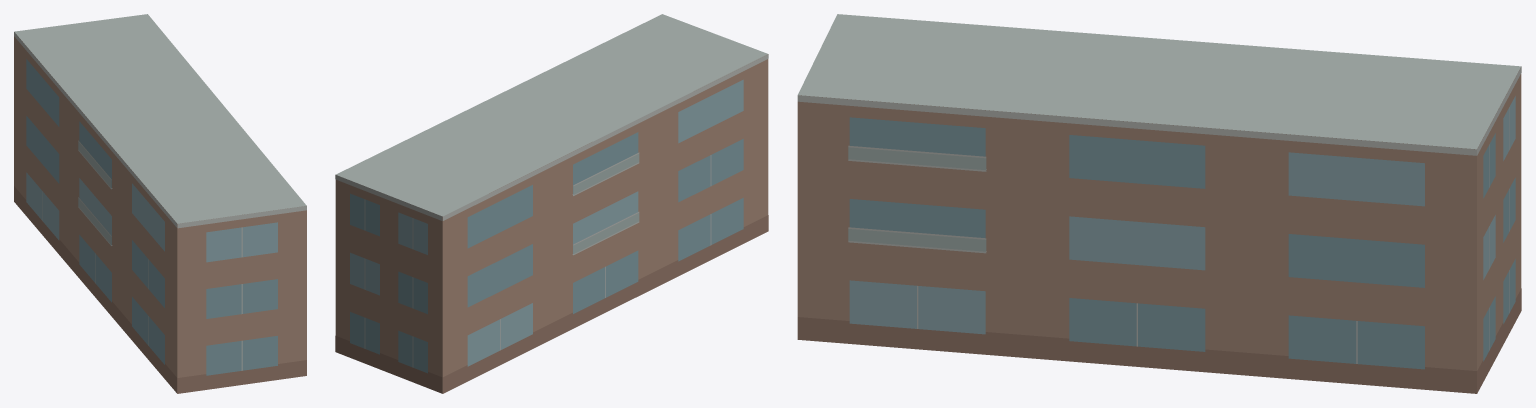
The model's file is survey-upis-32886523.glb.
The picture shows the model from 3 angles, left to right: view 1: azimuth 30°, elevation 25°; view 2: azimuth 150°, elevation 25°; view 3: azimuth 270°, elevation 25°; orthographic projection. The views are drawn at different scales.
Parts seen in each view (by area): view 1: survey-upis-32886523.tmp; view 2: survey-upis-32886523.tmp; view 3: survey-upis-32886523.tmp.
Boxes of the visible parts, x1,y1,x2,y2 form: survey-upis-32886523.tmp: [14, 14, 306, 393]; survey-upis-32886523.tmp: [335, 14, 768, 393]; survey-upis-32886523.tmp: [797, 14, 1521, 393].
Size of the model in its own units: 10.8 by 9.1 by 24.42.
